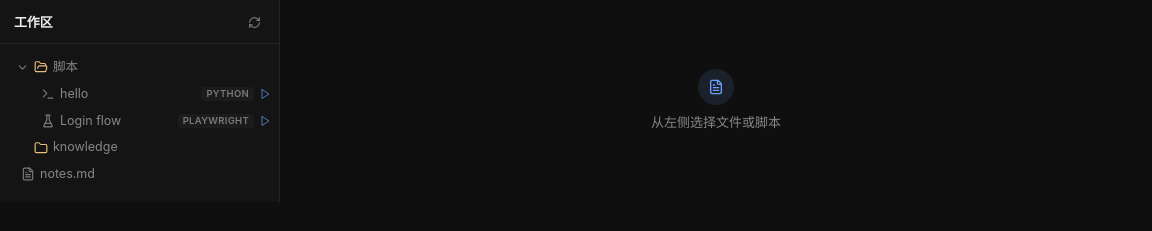
WorkspacePage › reports connection lost only when the socket closes without a done frame
Click the element with class "file-tree-row" showing "hello python" at (228, 94), box x1=41 y1=86 x2=271 y2=101
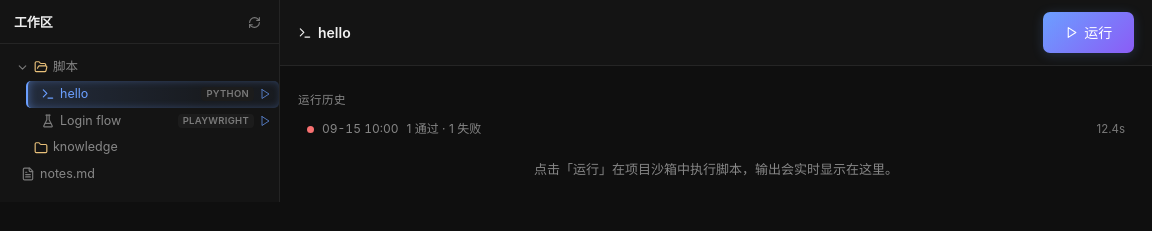
Click the button "运行" at (1089, 32), box x1=1043 y1=12 x2=1134 y2=53
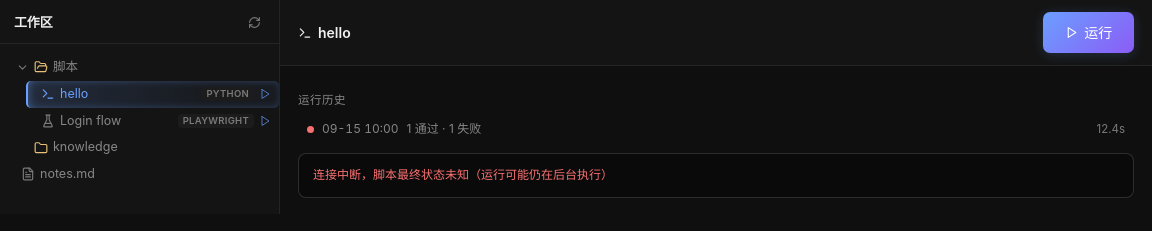
Expected: the element showing "连接中断，脚本最终状态未知（运行可能仍在后台执行）" is shown, x1=298 y1=153 x2=1134 y2=198
